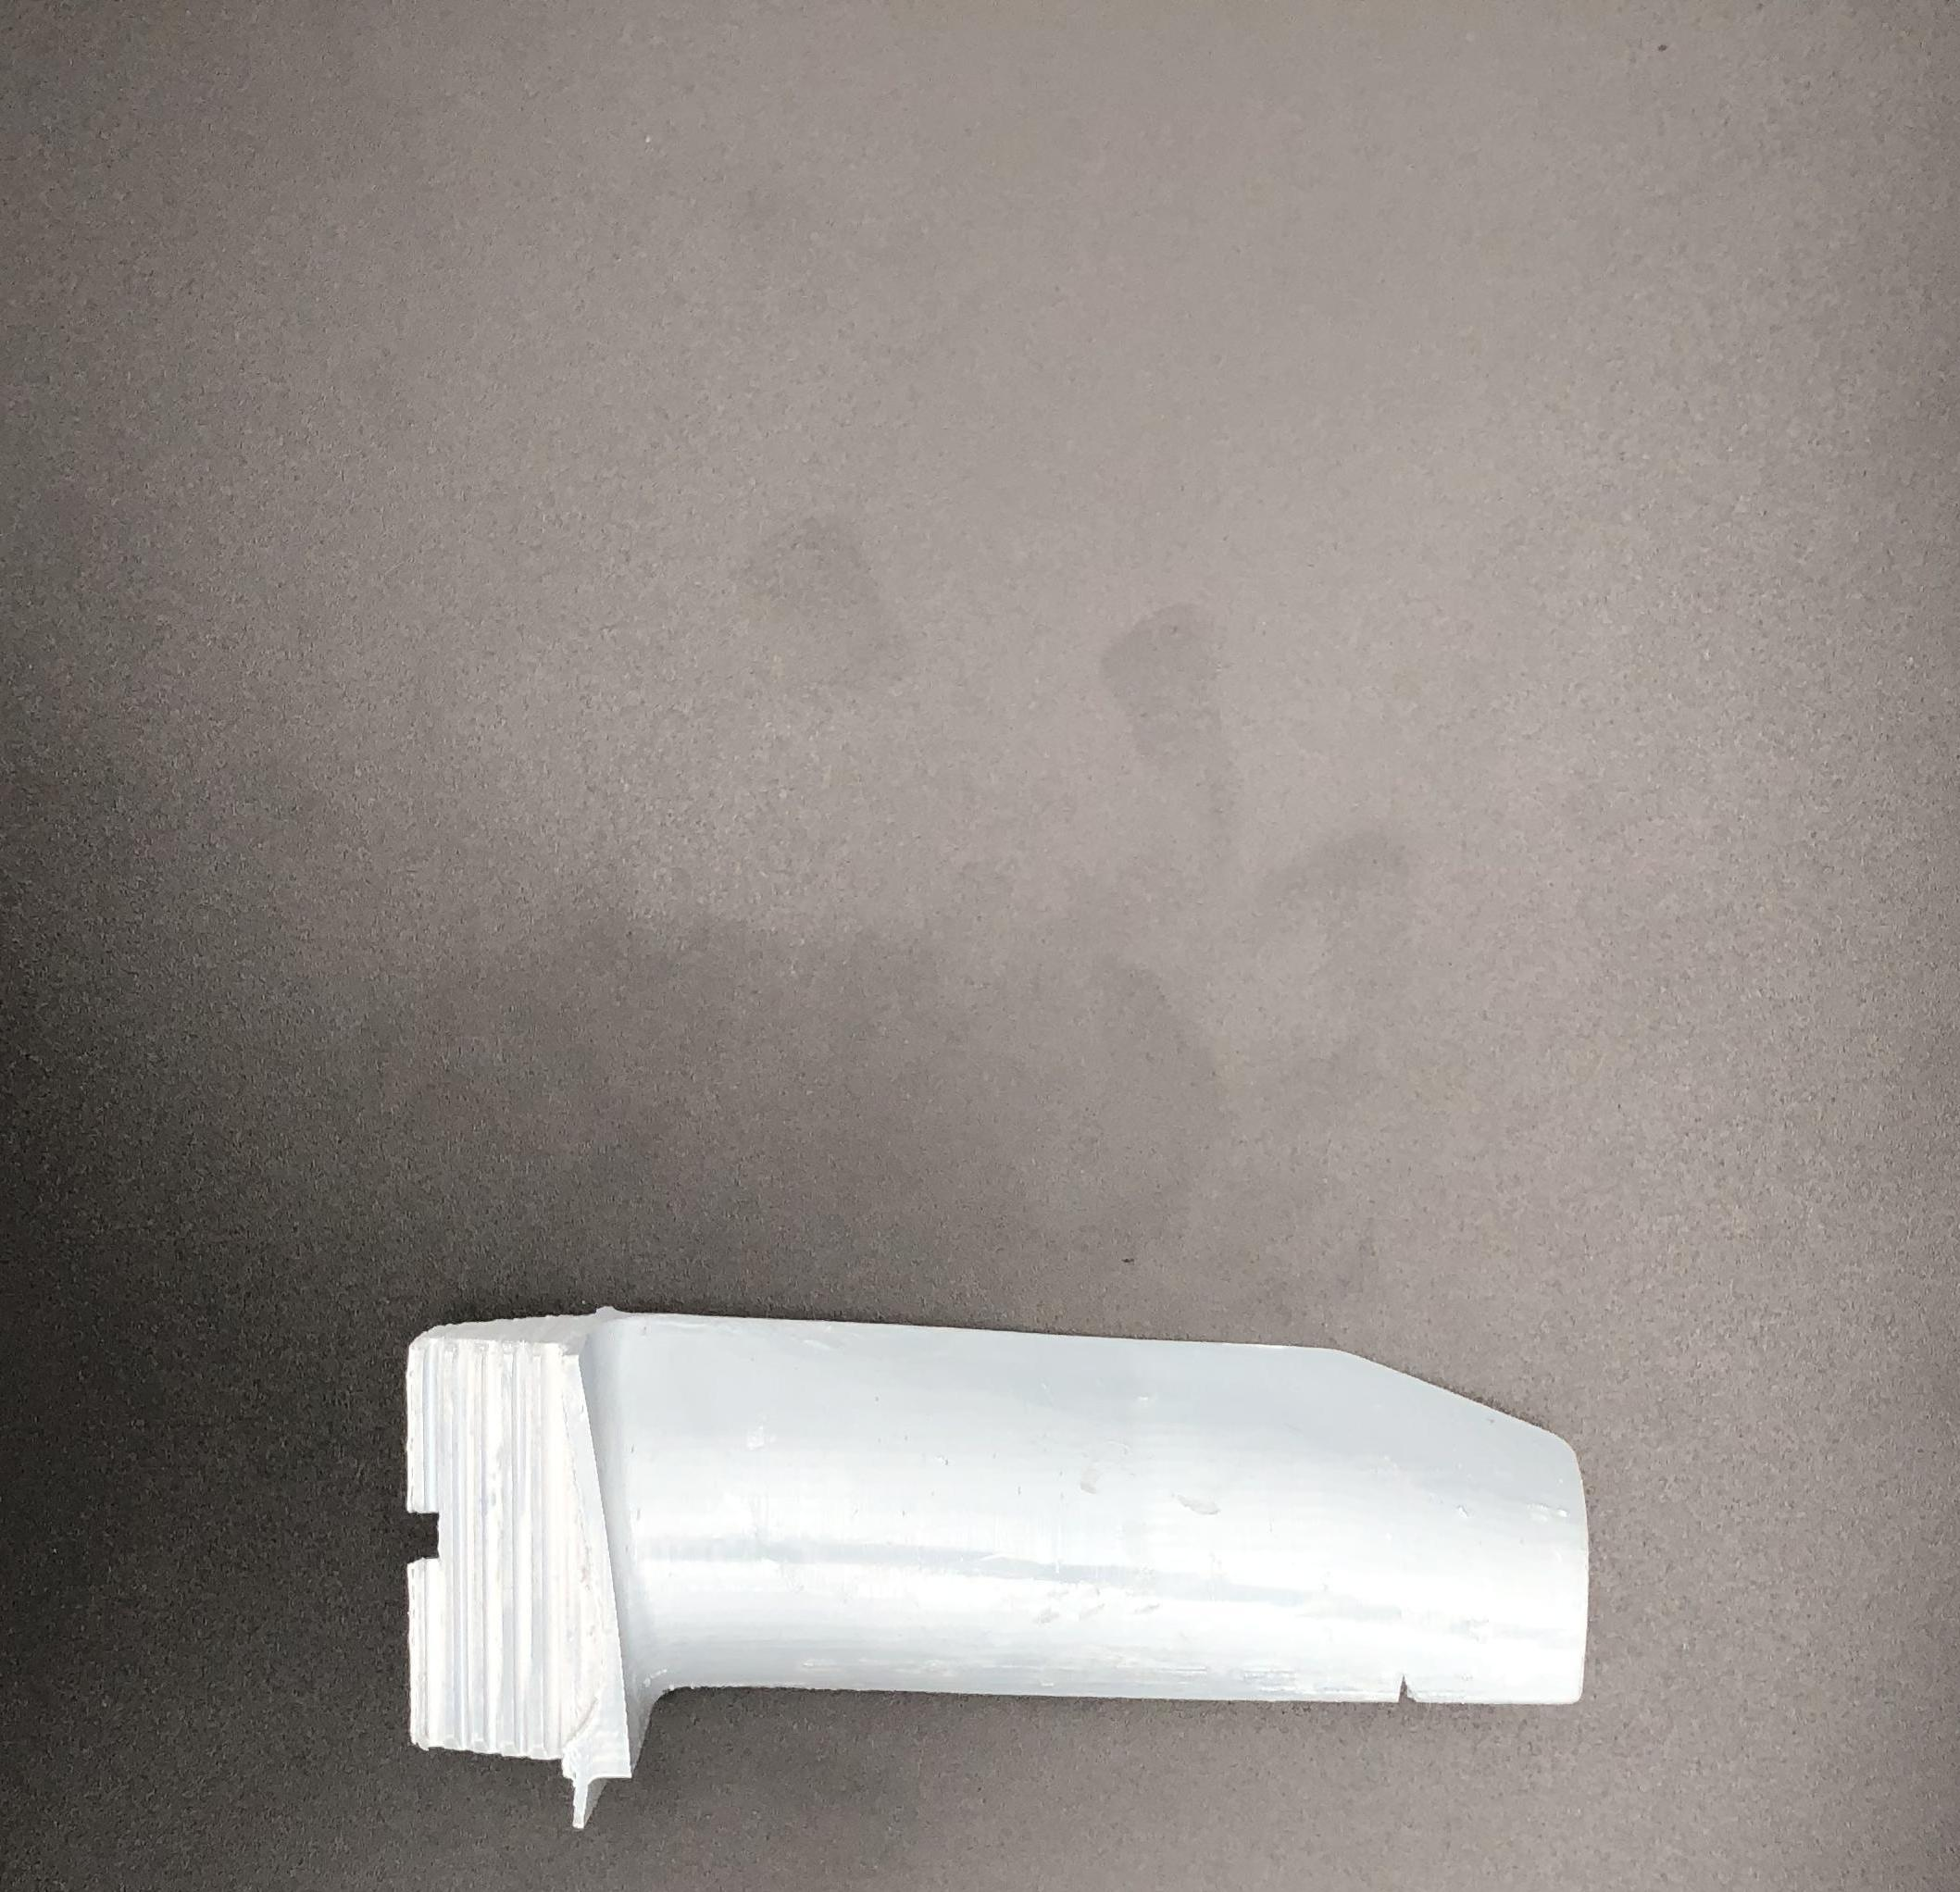groove: (1393, 1678, 1428, 1705)
